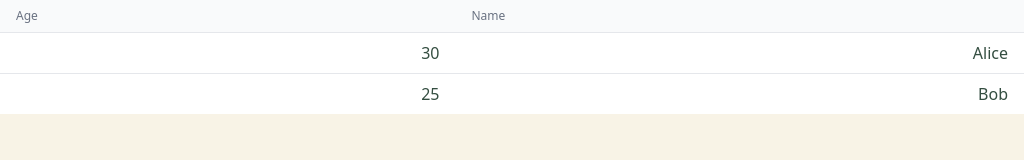
Table › sorts rows when header clicked
The image size is (1024, 160).
Click the column heading "Age". click: (27,16)
box: [0,0,456,32]
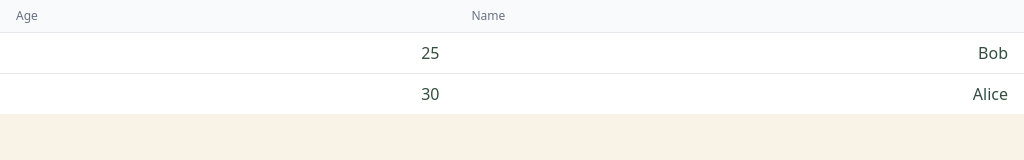
Result: the cell "Bob" is shown at [456,32,1023,74]
